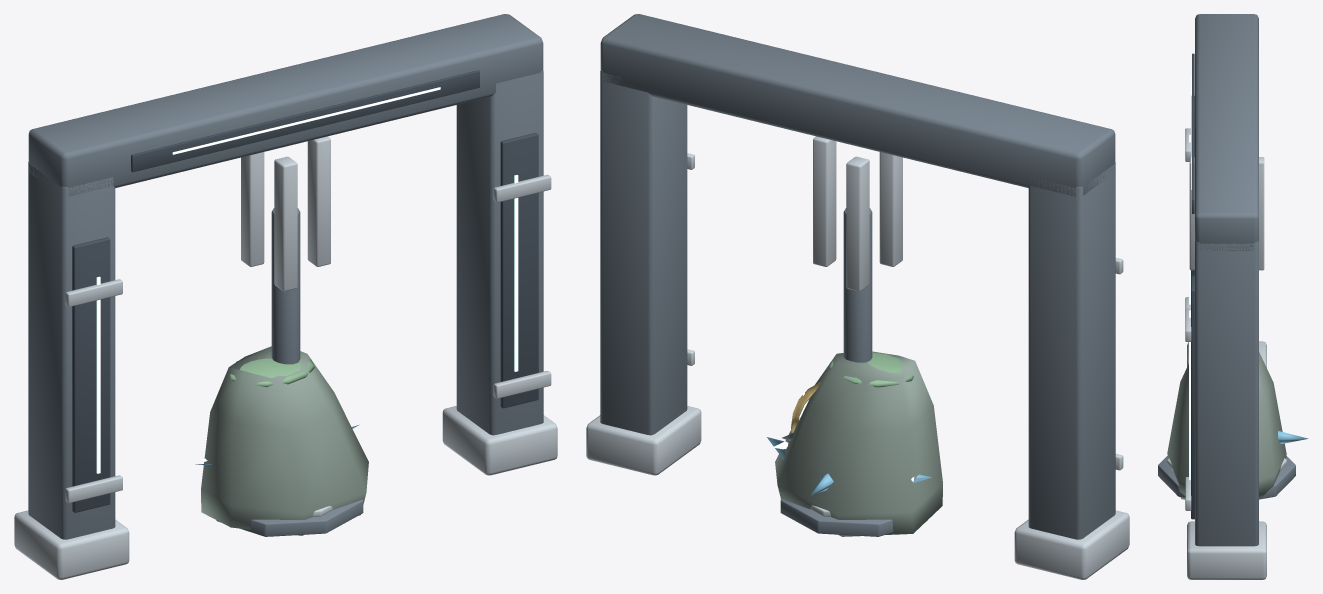
File: golden_studio_import.fbx
3 views of the same model, side by side, from view 1: azimuth 30°, elevation 25°; view 2: azimuth 150°, elevation 25°; view 3: azimuth 270°, elevation 25° (orthographic). The views are drawn at different scales.
Parts seen in each view (by area): view 1: GS_Gate_DarkMetal, GS_Gate_PanelPlastic, GS_Basalt_MossRock, GS_Gate_SecondaryMetal, GS_Relay_SecondaryMetal, GS_Relay_DarkMetal, GS_Gate_EnergyGreen, GS_Plinth_DarkMetal, GS_Basalt_LeafGreen; view 2: GS_Gate_DarkMetal, GS_Basalt_MossRock, GS_Gate_SecondaryMetal, GS_Relay_SecondaryMetal, GS_Relay_DarkMetal, GS_Plinth_DarkMetal, GS_Basalt_LeafGreen; view 3: GS_Gate_DarkMetal, GS_Basalt_MossRock, GS_Gate_SecondaryMetal, GS_Gate_PanelPlastic, GS_Relay_SecondaryMetal, GS_Plinth_DarkMetal, GS_Gate_EnergyGreen, GS_Prismfin_RareBlue.
Boxes of the visible parts, box(x1,y1,x2,y2) form: GS_Gate_DarkMetal: box(28, 14, 543, 539); GS_Gate_PanelPlastic: box(72, 70, 538, 512); GS_Basalt_MossRock: box(201, 346, 368, 535); GS_Gate_SecondaryMetal: box(14, 174, 557, 579); GS_Relay_SecondaryMetal: box(241, 136, 330, 291); GS_Relay_DarkMetal: box(271, 208, 300, 364); GS_Gate_EnergyGreen: box(96, 87, 518, 473); GS_Plinth_DarkMetal: box(216, 499, 363, 536); GS_Basalt_LeafGreen: box(229, 358, 314, 387); GS_Gate_DarkMetal: box(600, 14, 1115, 539); GS_Basalt_MossRock: box(775, 351, 942, 536); GS_Gate_SecondaryMetal: box(586, 153, 1129, 579); GS_Relay_SecondaryMetal: box(813, 136, 902, 291); GS_Relay_DarkMetal: box(843, 208, 872, 362); GS_Plinth_DarkMetal: box(780, 499, 927, 536); GS_Basalt_LeafGreen: box(829, 352, 913, 387); GS_Gate_DarkMetal: box(1195, 14, 1258, 546); GS_Basalt_MossRock: box(1167, 352, 1286, 499); GS_Gate_SecondaryMetal: box(1185, 128, 1266, 579); GS_Gate_PanelPlastic: box(1191, 53, 1194, 519); GS_Relay_SecondaryMetal: box(1189, 157, 1264, 270); GS_Plinth_DarkMetal: box(1158, 456, 1295, 499); GS_Gate_EnergyGreen: box(1189, 75, 1191, 480); GS_Prismfin_RareBlue: box(1278, 431, 1308, 443).
Size of the model in its own units: 1870 by 1519 by 567.
